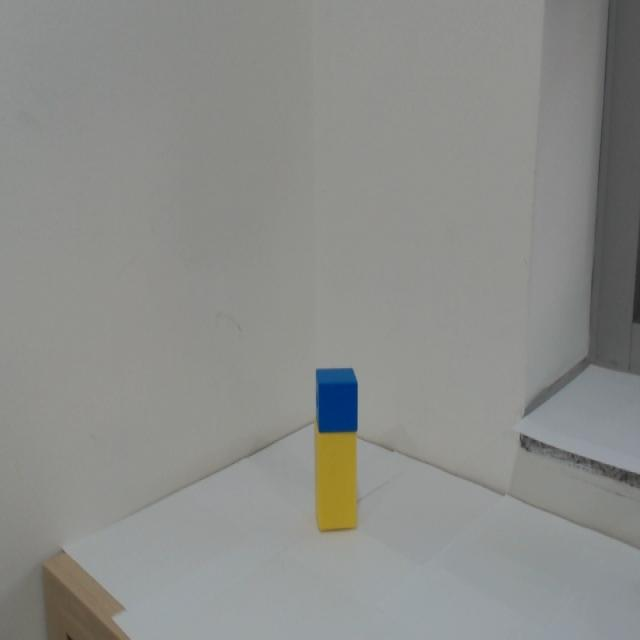cube: (314, 367, 358, 434)
